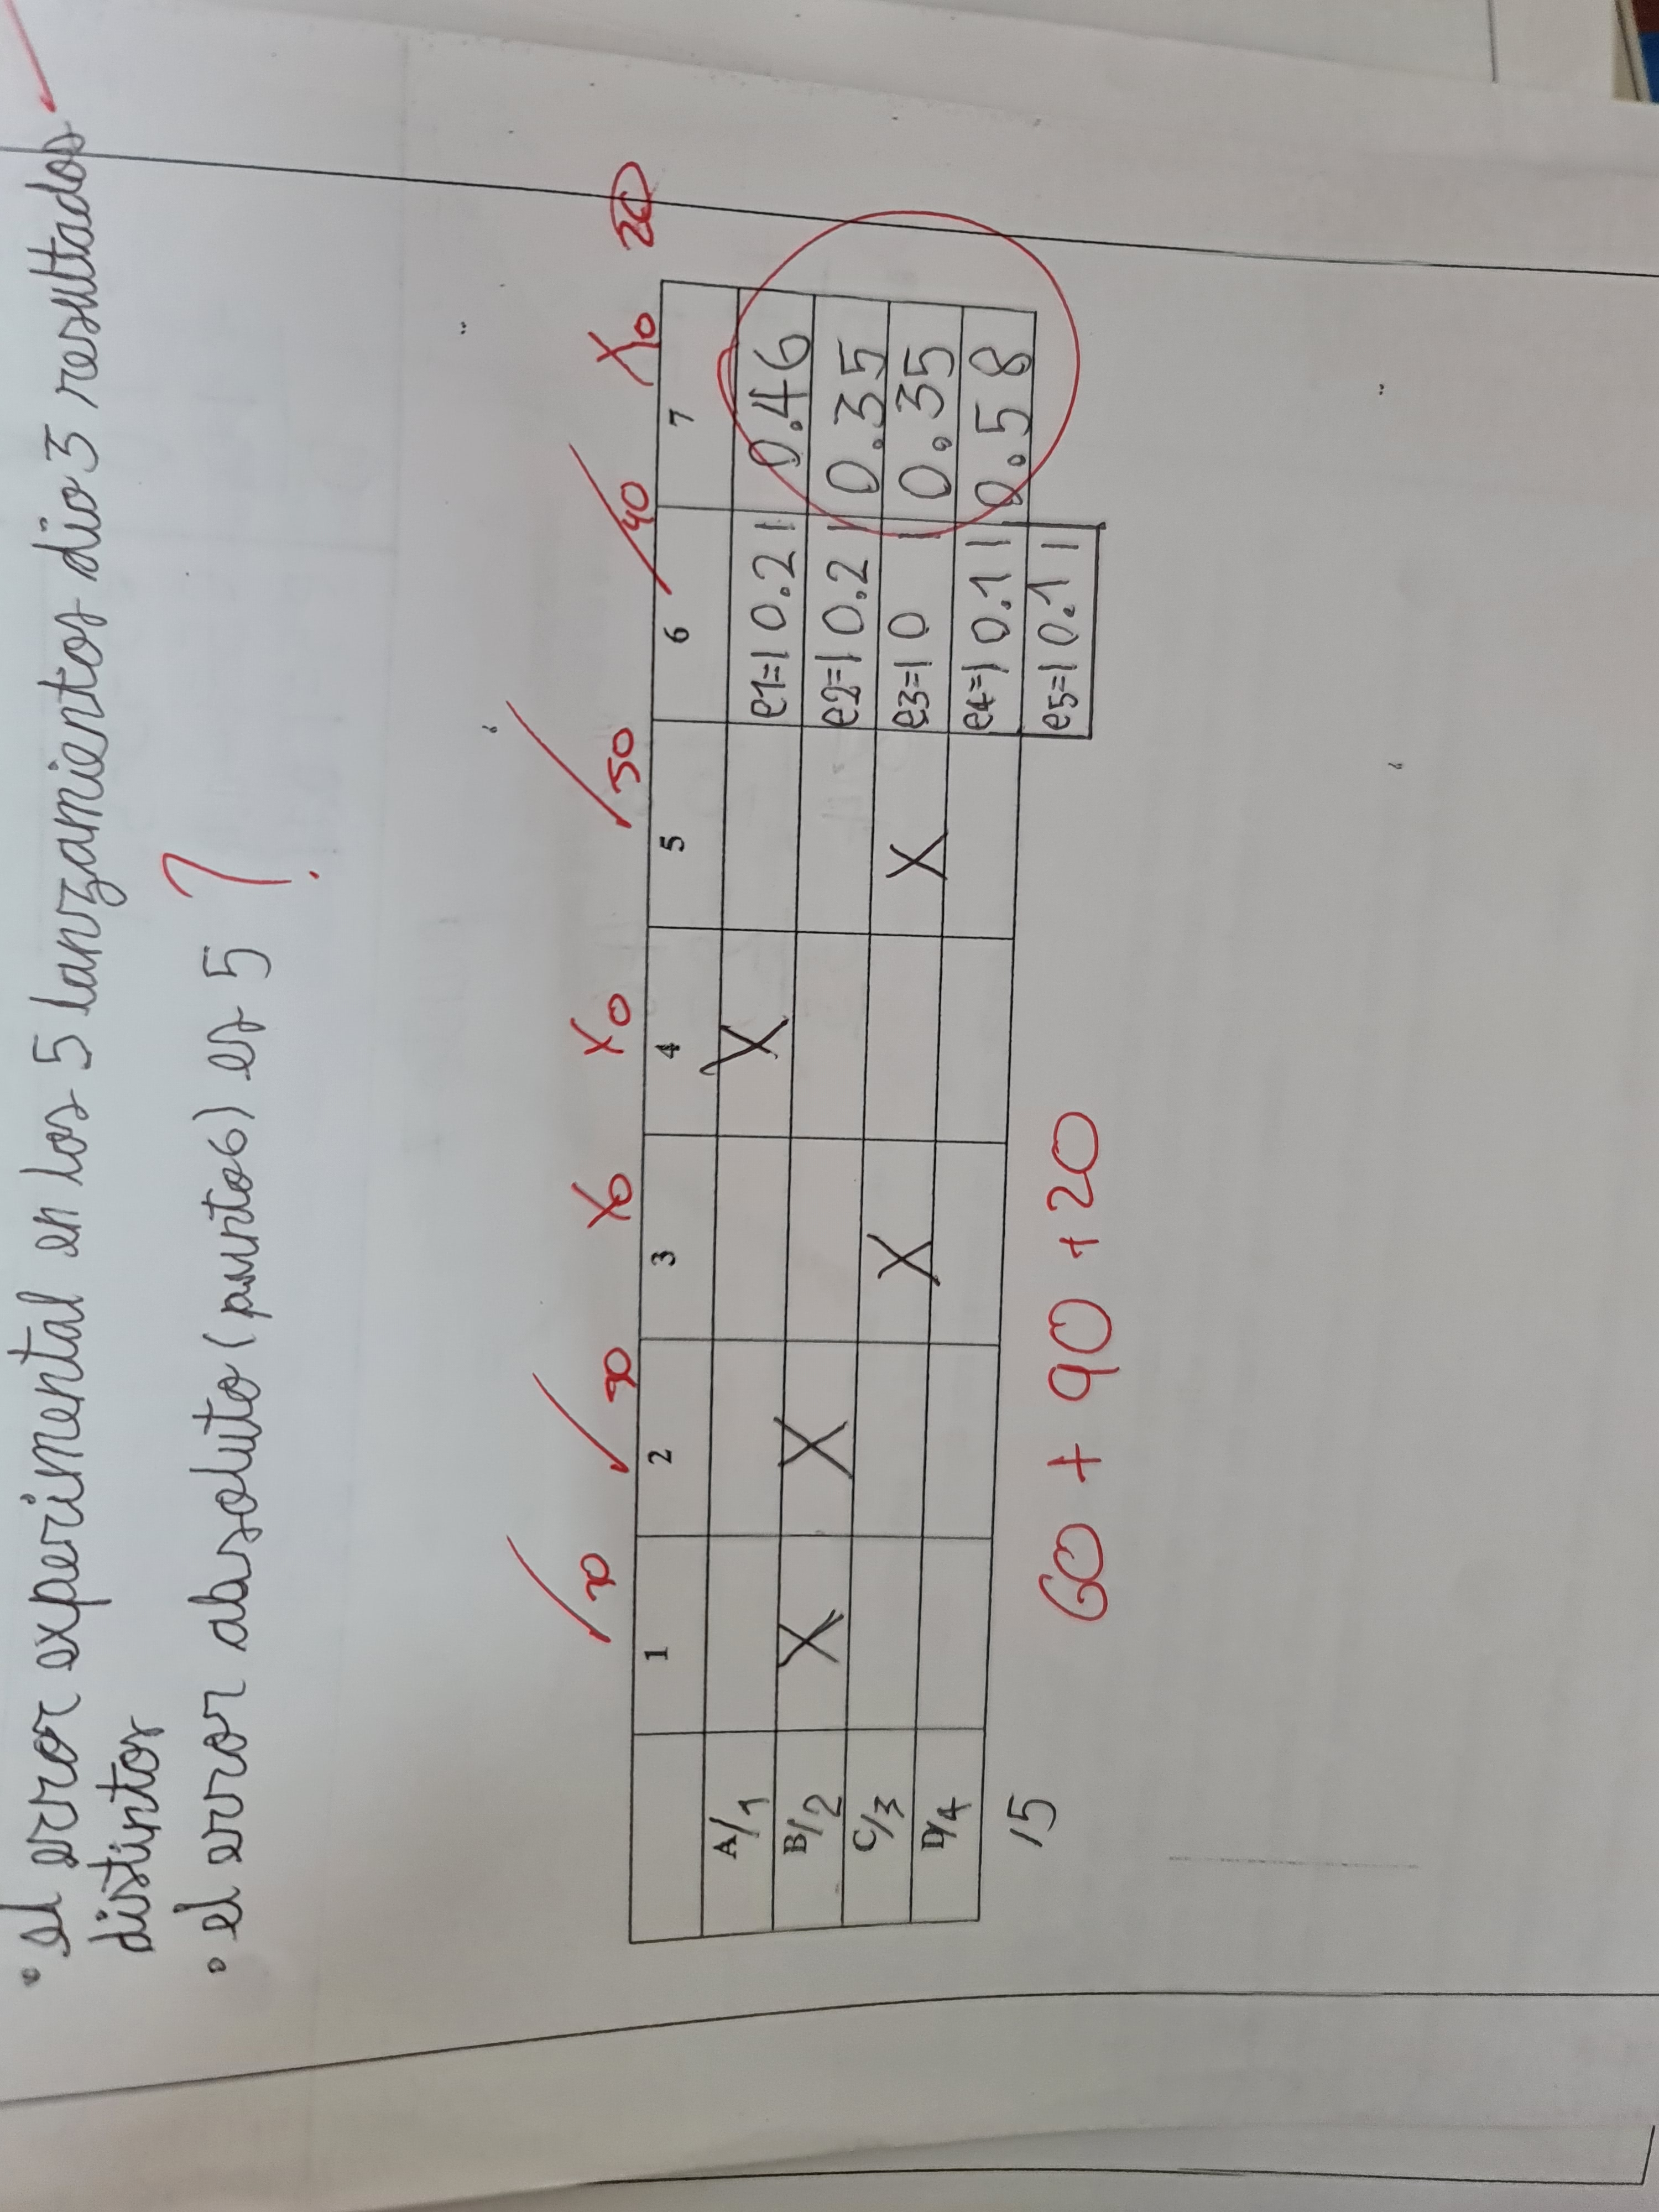column: (631, 707, 1051, 954), (626, 1111, 1019, 1364), (641, 913, 1037, 1158), (612, 1709, 999, 1949), (622, 1327, 1014, 1554), (613, 1519, 1000, 1745)
